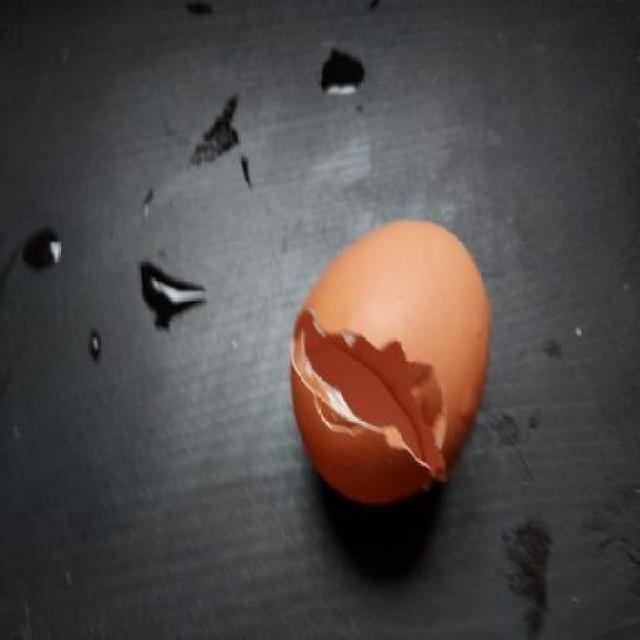biodegradable: (288, 216, 492, 502)
